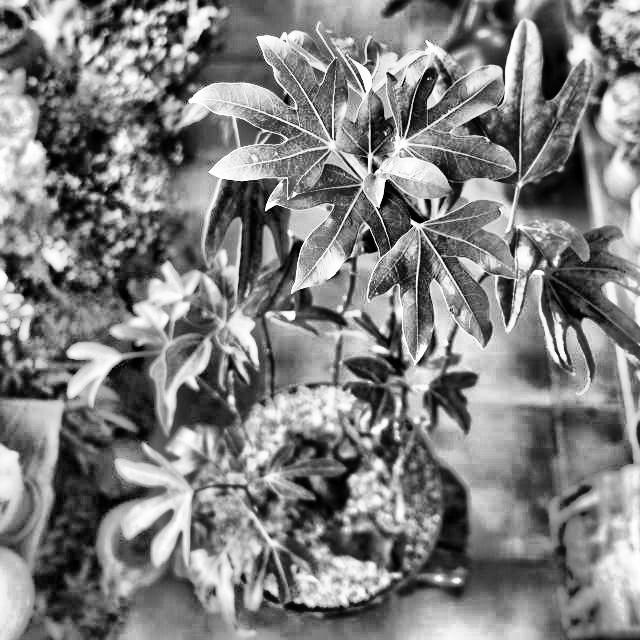plants: (209, 49, 595, 367)
